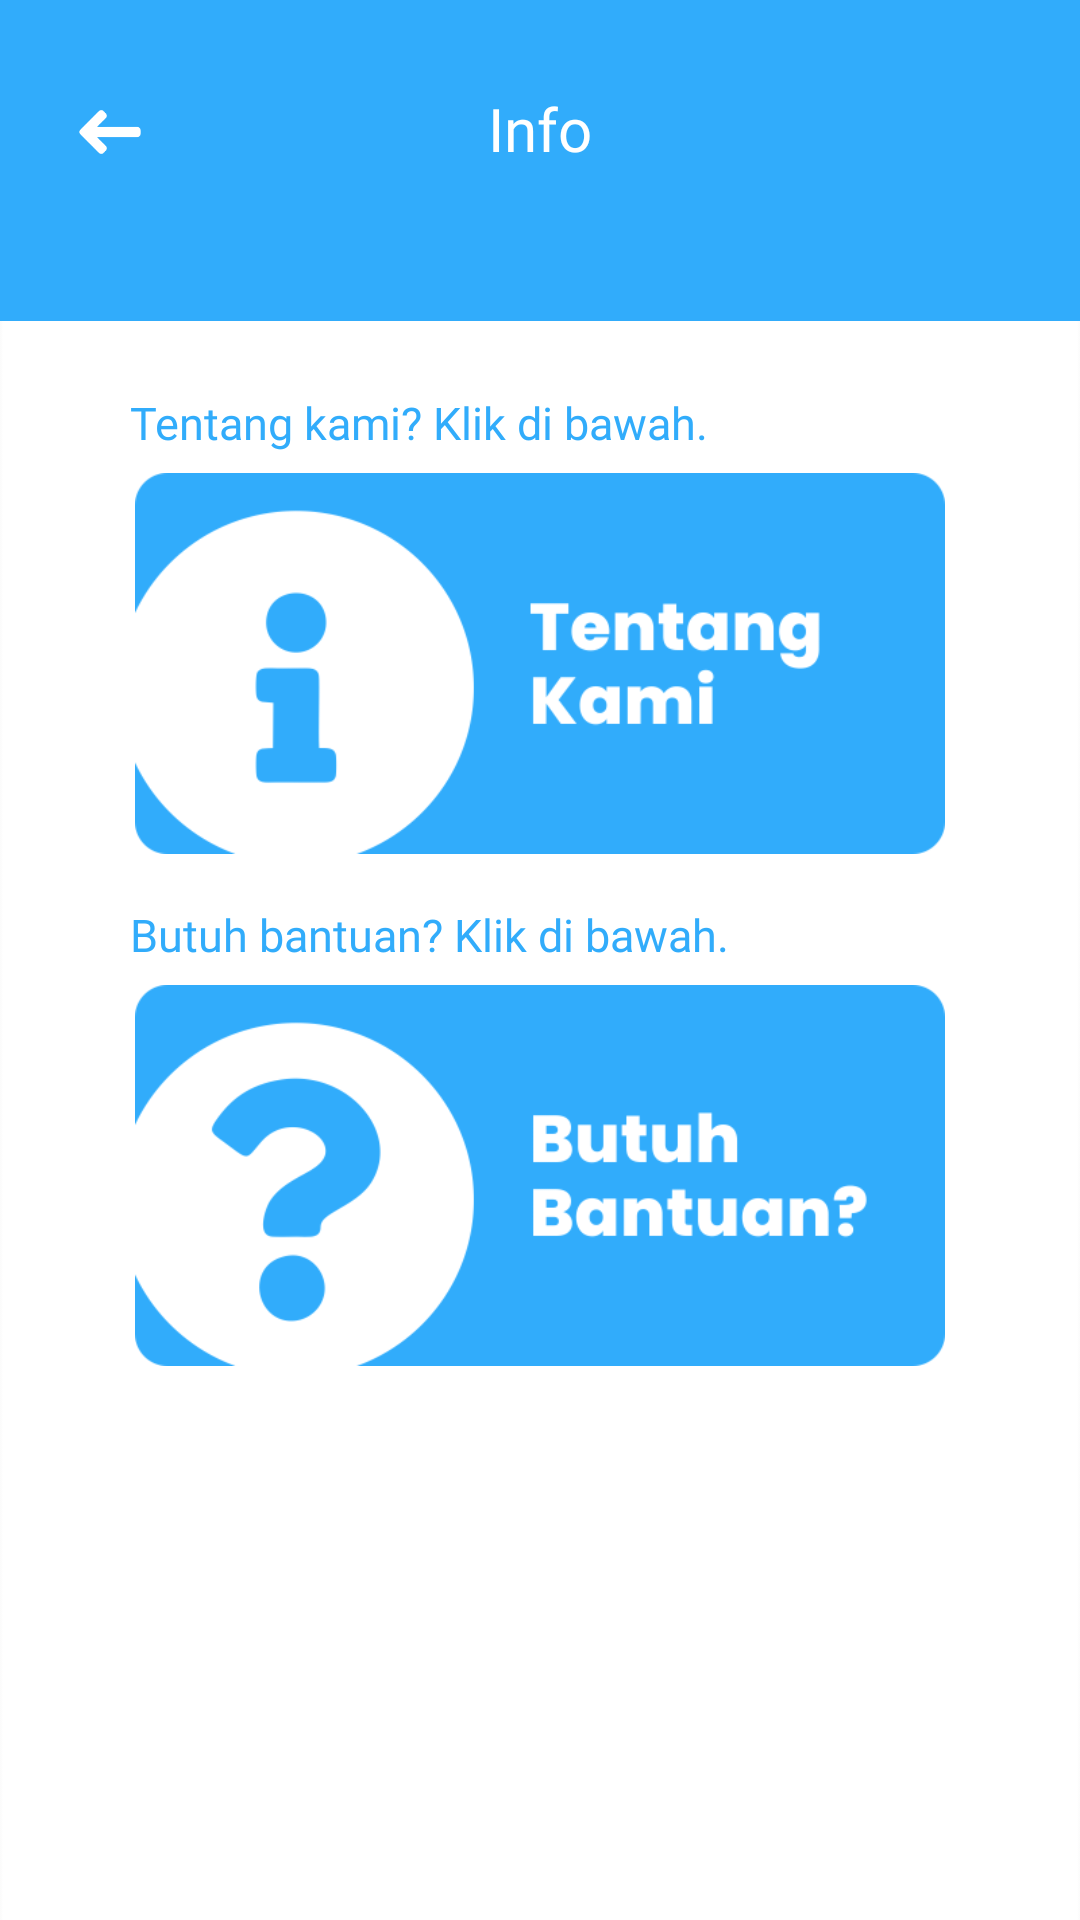

Screen size 1080w x 1920h. Icon name, then its box in pixels as box(x1, y1, x2, y2):
back: box(79, 110, 141, 154)
